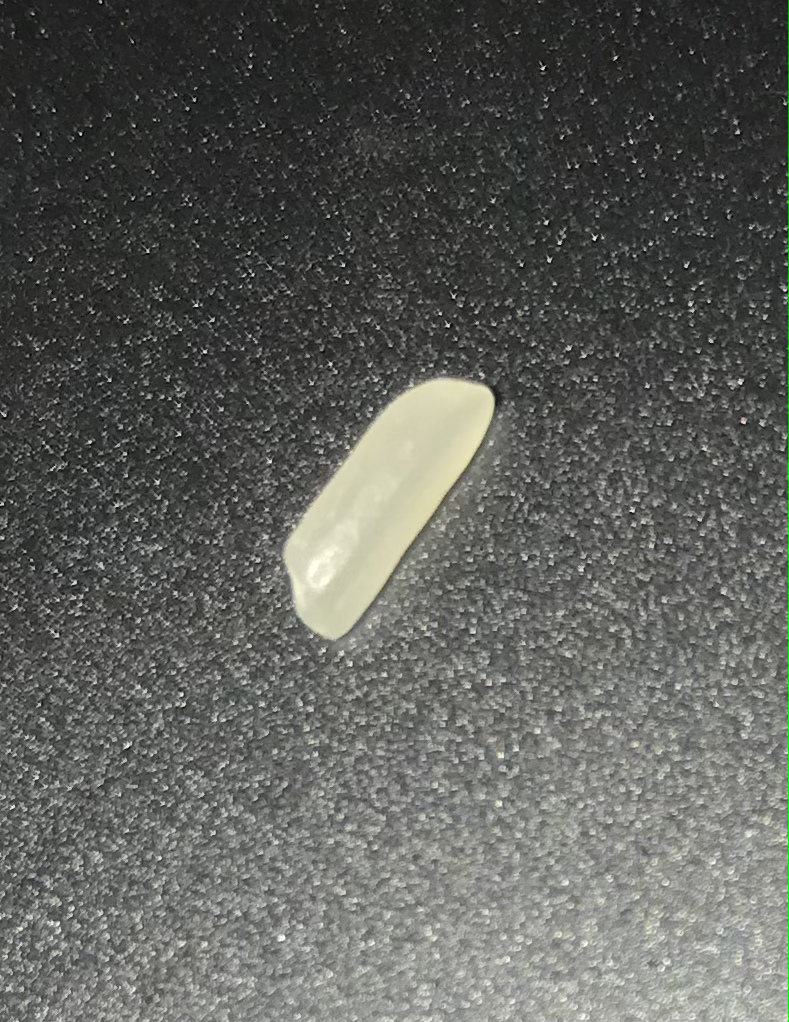Gao Thom My: (278, 365, 506, 655)
